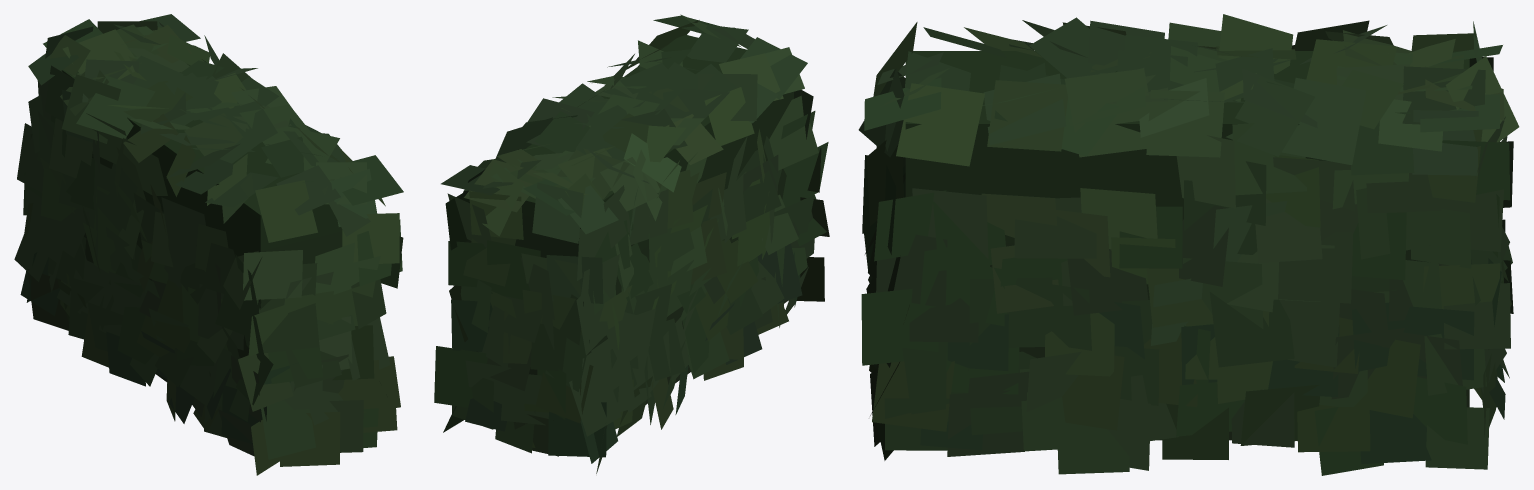
File: hedge.yew.green.glb
3 renders of one model, left to right at view 1: azimuth 30°, elevation 25°; view 2: azimuth 150°, elevation 25°; view 3: azimuth 270°, elevation 25°, orthographic. The views are drawn at different scales.
Parts seen in each view (by area): view 1: hedge_yew_green; view 2: hedge_yew_green; view 3: hedge_yew_green.
Boxes of the visible parts, bbox=[...] form: hedge_yew_green: bbox=[14, 14, 403, 475]; hedge_yew_green: bbox=[434, 14, 829, 473]; hedge_yew_green: bbox=[858, 14, 1519, 475].
Size of what is drawn, in the model's own units: 1.66 by 2.59 by 4.05.
